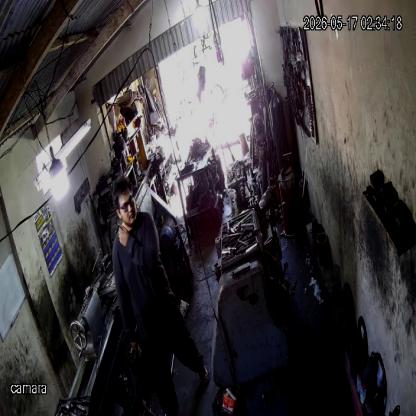lentes: (118, 196, 136, 213)
